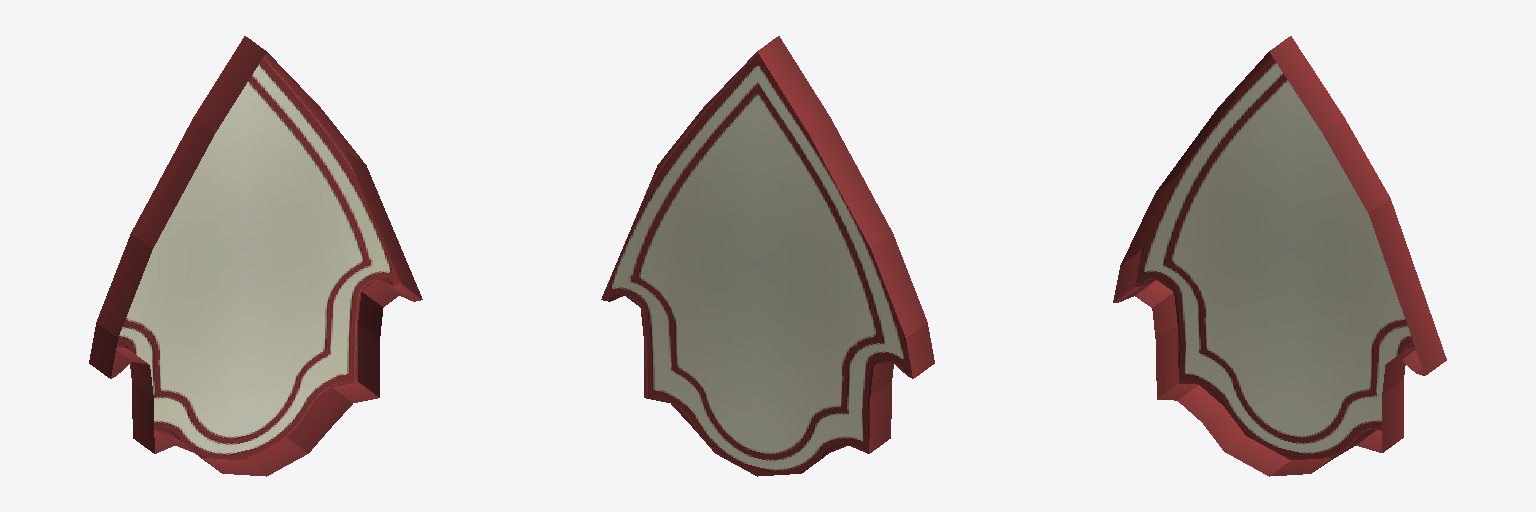
3 views of the same model, side by side, from view 1: azimuth 30°, elevation 25°; view 2: azimuth 150°, elevation 25°; view 3: azimuth 330°, elevation 25° (orthographic).
Visible parts, largest first — view 1: Cube_Cube.001; view 2: Cube_Cube.001; view 3: Cube_Cube.001.
Part boxes in pixels (x1,y1,x2,y2): Cube_Cube.001: (89, 36, 422, 476); Cube_Cube.001: (601, 36, 934, 476); Cube_Cube.001: (1113, 36, 1446, 476).
Size of the model in its own units: 9.42 by 12.25 by 1.15.
1 materials, 1 textured.